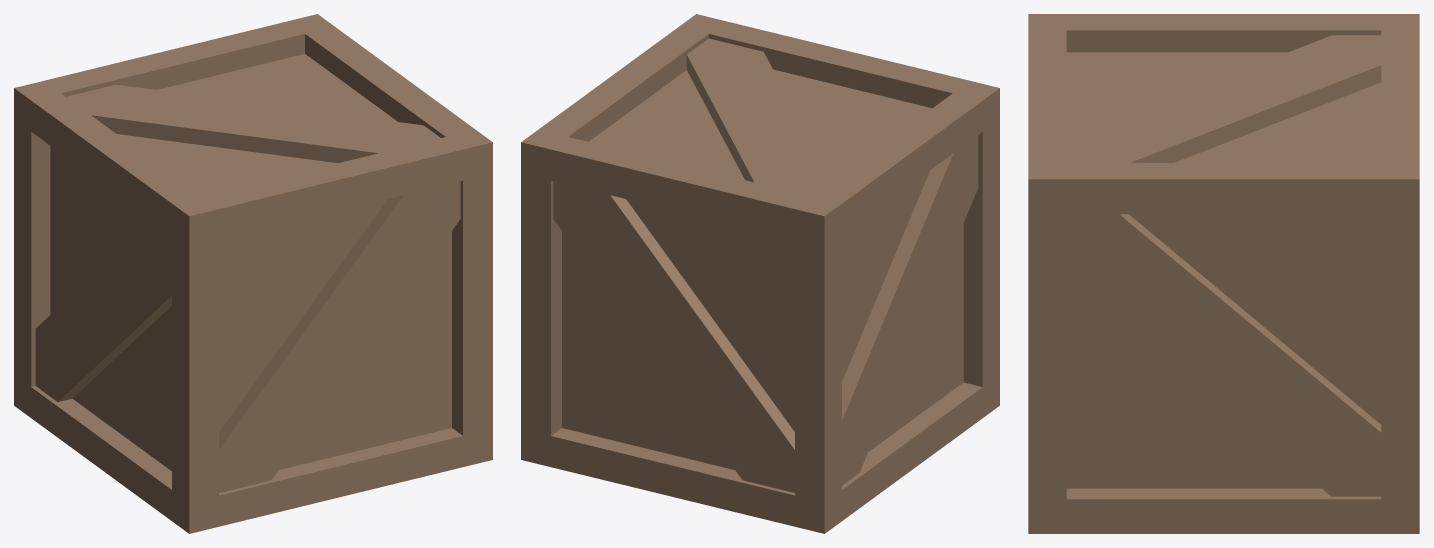
Rendered from crate.fbx.
3 views of the same model, side by side, from view 1: azimuth 30°, elevation 25°; view 2: azimuth 150°, elevation 25°; view 3: azimuth 270°, elevation 25° (orthographic). The views are drawn at different scales.
Visible parts, largest first — view 1: crate; view 2: crate; view 3: crate.
Boxes of the visible parts, bbox=[...] form: crate: bbox=[14, 14, 492, 533]; crate: bbox=[521, 14, 999, 533]; crate: bbox=[1028, 14, 1419, 533].
Size of the model in its own units: 110 by 110 by 110.
